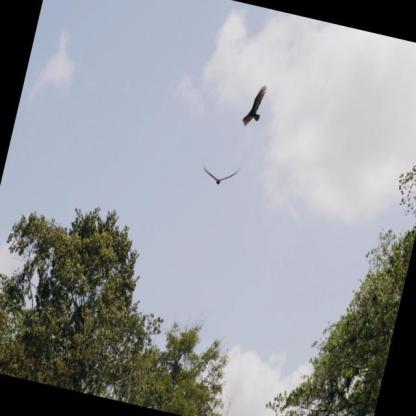bird: (196, 156, 243, 191), (240, 80, 268, 131)
